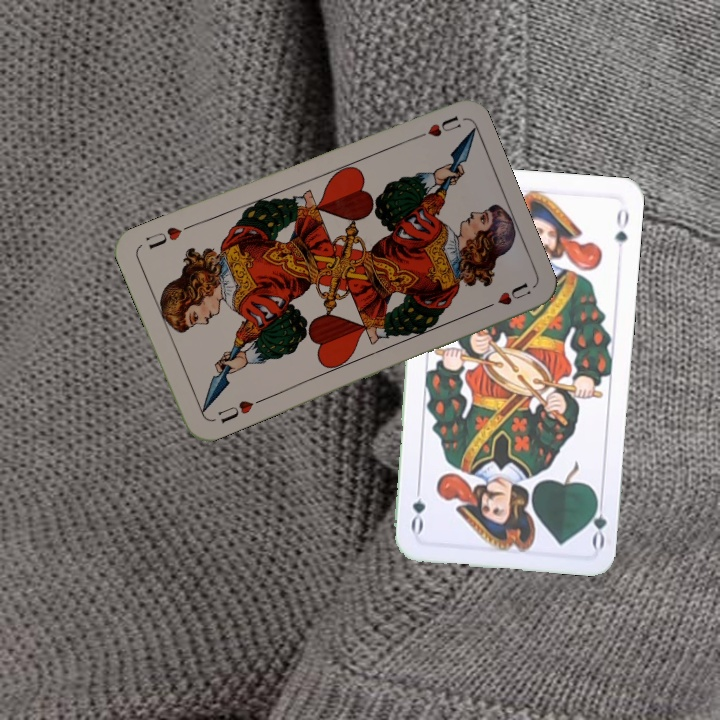GO: (584, 491, 609, 551)
HU: (407, 112, 464, 143), (213, 395, 265, 426)
